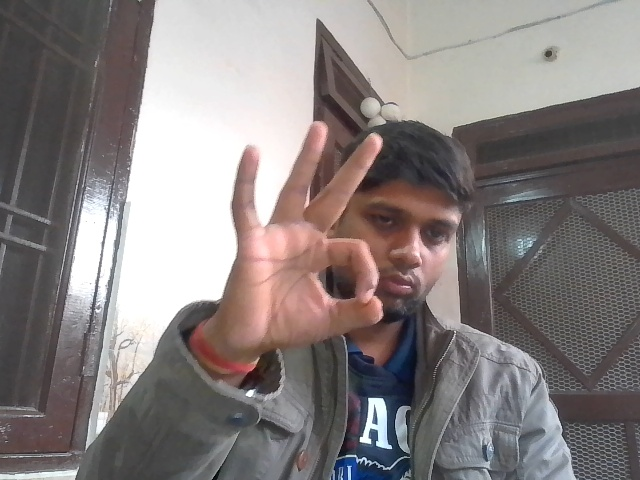Good: (223, 121, 392, 366)
